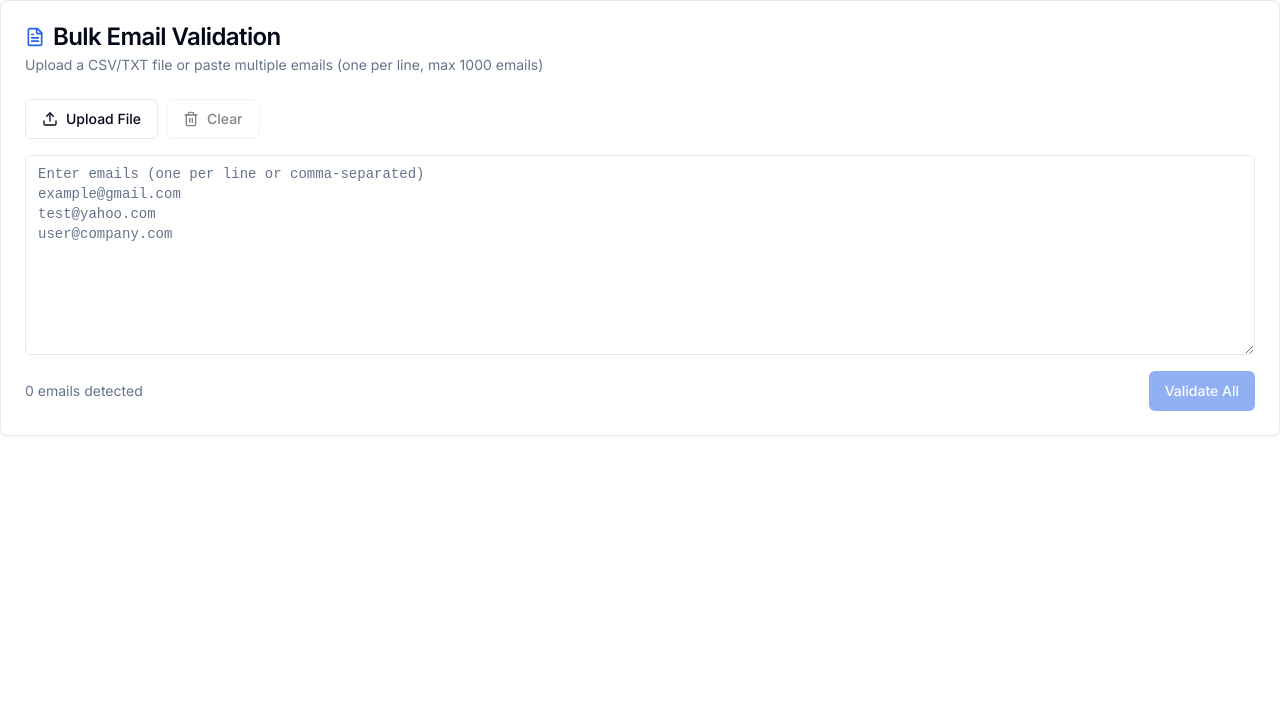
Test case: BulkValidator › validation › shows loading state during validation
Type "test@example.com" into the text box with placeholder "Enter emails" at (640, 255), box x1=25 y1=155 x2=1255 y2=355
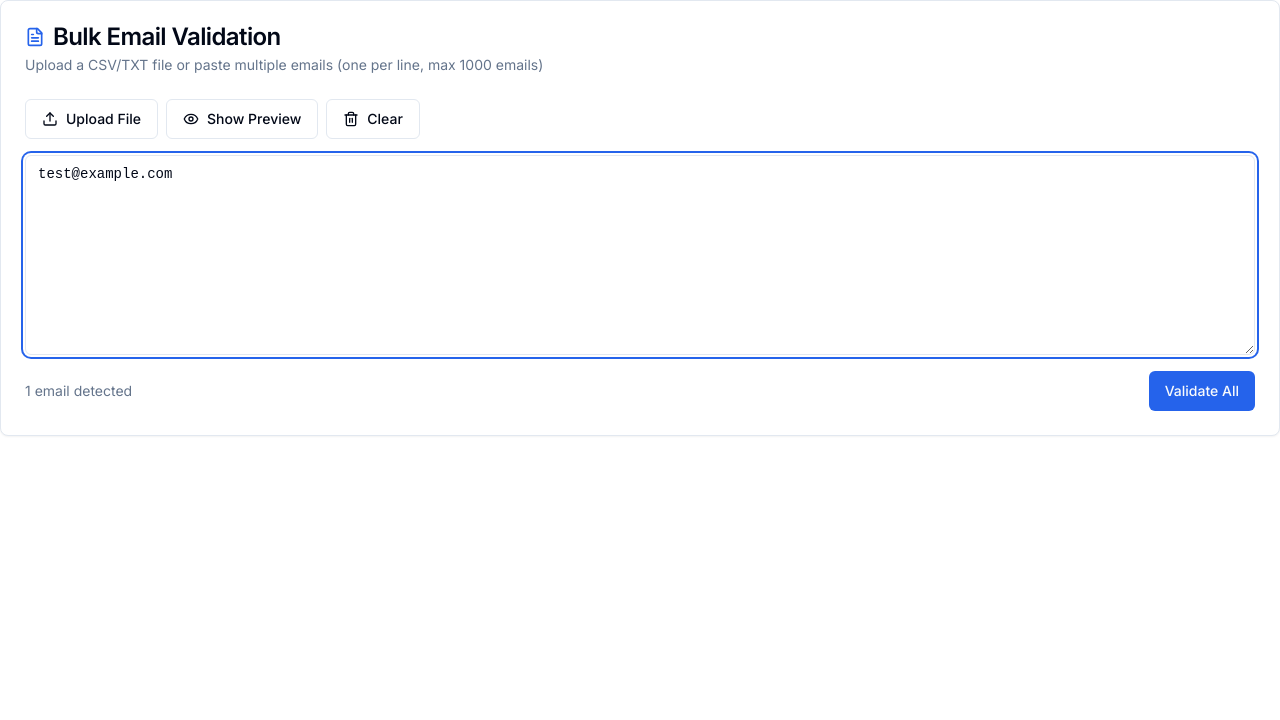
Click the button "Validate All" at (1202, 391), box x1=1149 y1=371 x2=1255 y2=411
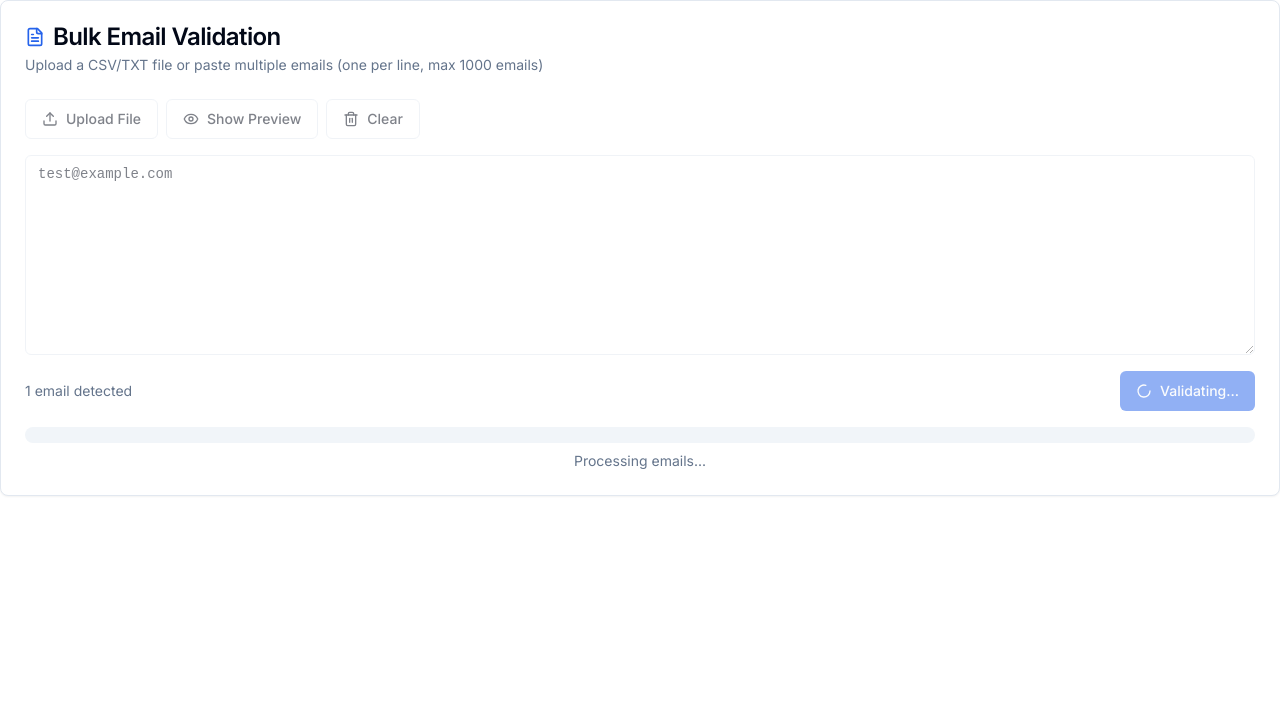
Expected: the button "Validating..." is shown, x1=1120 y1=371 x2=1255 y2=411
